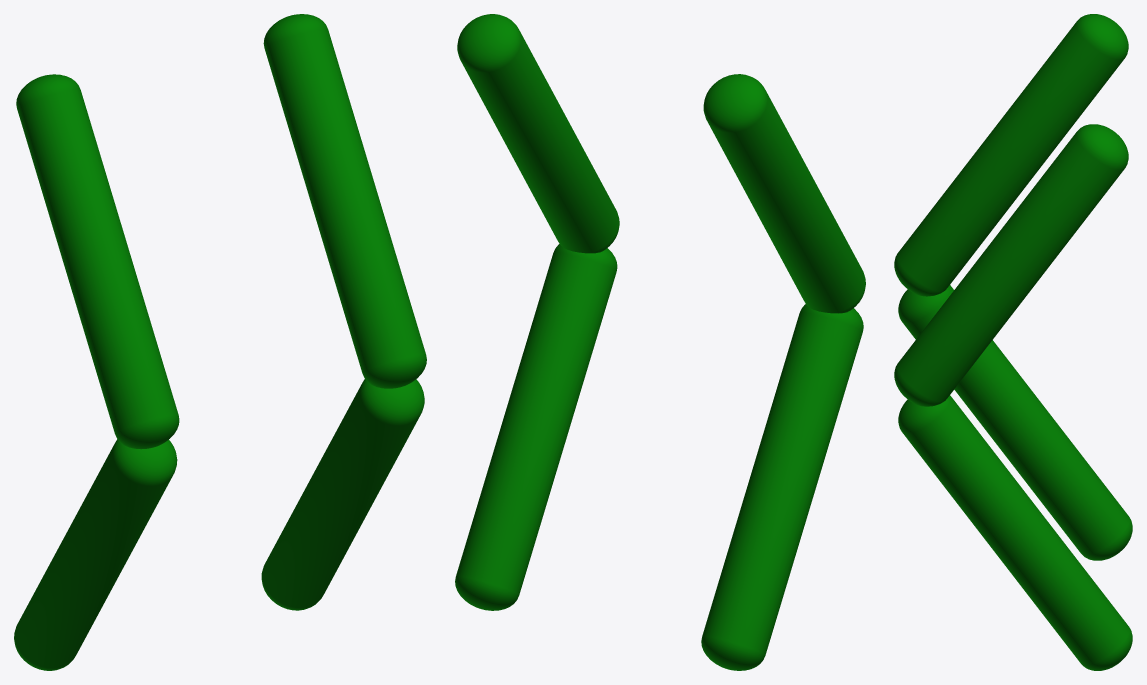
The model's file is hector_legs.dae.
3 views of the same model, side by side, from view 1: azimuth 30°, elevation 25°; view 2: azimuth 150°, elevation 25°; view 3: azimuth 270°, elevation 25° (orthographic). The views are drawn at different scales.
Parts seen in each view (by area): view 1: leg_top_left, leg_top_right, leg_bottom_right, leg_bottom_left; view 2: leg_bottom_left, leg_bottom_right, leg_top_right, leg_top_left; view 3: leg_top_right, leg_top_left, leg_bottom_right, leg_bottom_left.
Part boxes in pixels (x1,y1,x2,y2): leg_top_left: [16, 74, 179, 449]; leg_top_right: [263, 14, 426, 388]; leg_bottom_right: [261, 379, 424, 610]; leg_bottom_left: [14, 439, 177, 670]; leg_bottom_left: [701, 304, 863, 670]; leg_bottom_right: [455, 244, 617, 610]; leg_top_right: [457, 14, 619, 253]; leg_top_left: [703, 74, 865, 313]; leg_top_right: [894, 124, 1128, 406]; leg_top_left: [894, 14, 1128, 296]; leg_bottom_right: [898, 395, 1132, 670]; leg_bottom_left: [898, 285, 1132, 560].
Size of the model in its own units: 0.74 by 1.37 by 0.5488.
